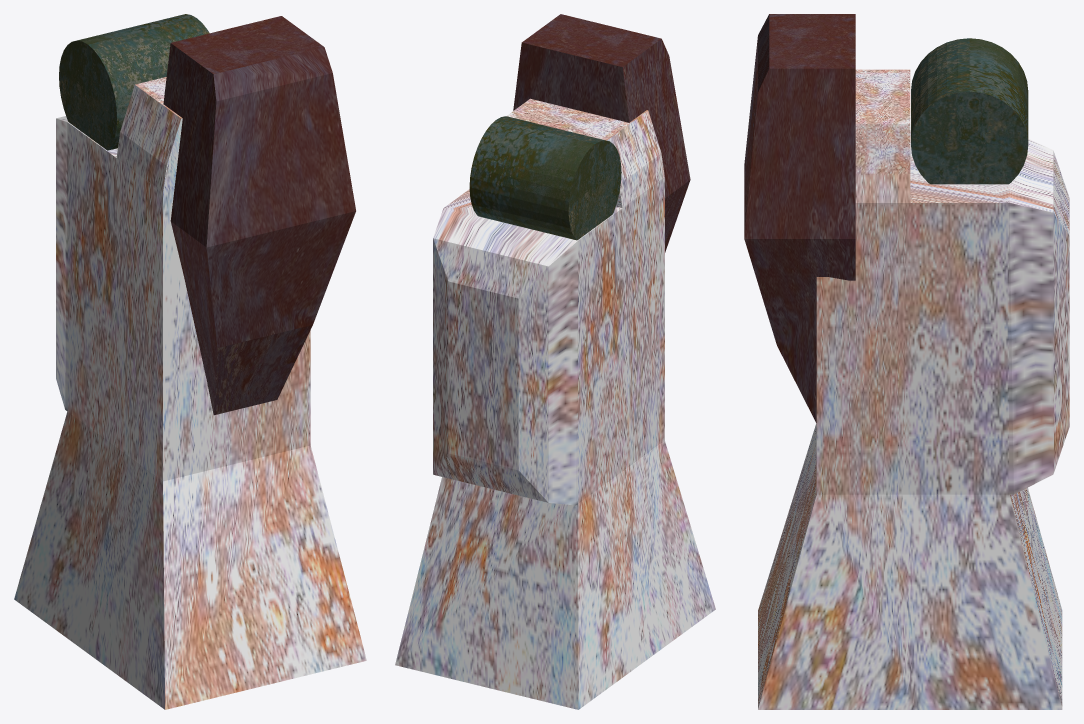
Rendered from pantorrilla_izq.obj.
The picture shows the model from 3 angles, left to right: view 1: azimuth 30°, elevation 25°; view 2: azimuth 150°, elevation 25°; view 3: azimuth 270°, elevation 25°; orthographic projection. The views are drawn at different scales.
Parts seen in each view (by area): view 1: pantorrilla_izq; view 2: pantorrilla_izq; view 3: pantorrilla_izq.
Part boxes in pixels (x1=…): pantorrilla_izq: x1=14, y1=14, x2=366, y2=709; pantorrilla_izq: x1=395, y1=14, x2=715, y2=709; pantorrilla_izq: x1=744, y1=14, x2=1069, y2=709.
Size of the model in its own units: 2 by 5.86 by 2.77.
3 materials, 3 textured.
